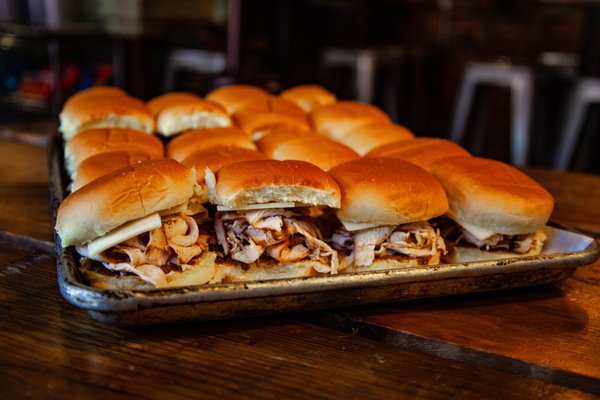soup: (204, 156, 348, 287), (55, 157, 200, 253), (425, 153, 555, 256), (327, 155, 449, 228)
